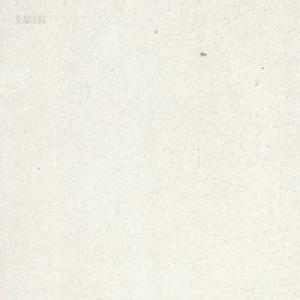Nail: (200, 51, 206, 56)
